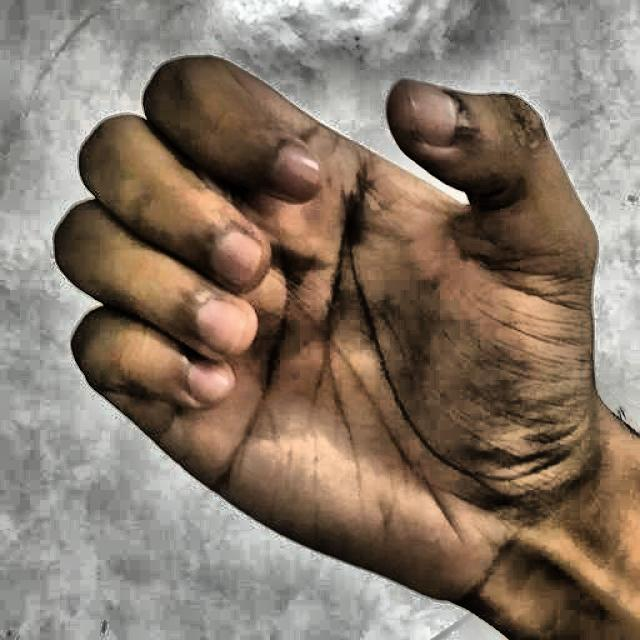Dho: (41, 39, 614, 616)
